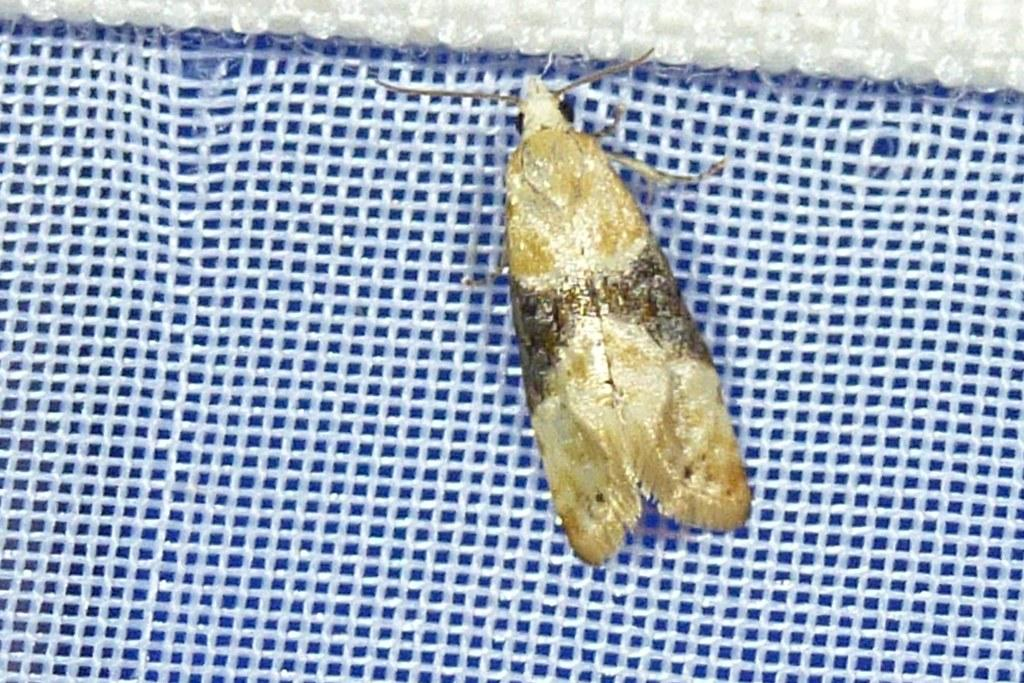Eupoecilia Ambiguella: (367, 44, 756, 569)
